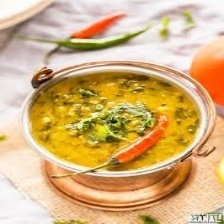dal: (30, 72, 203, 174)
